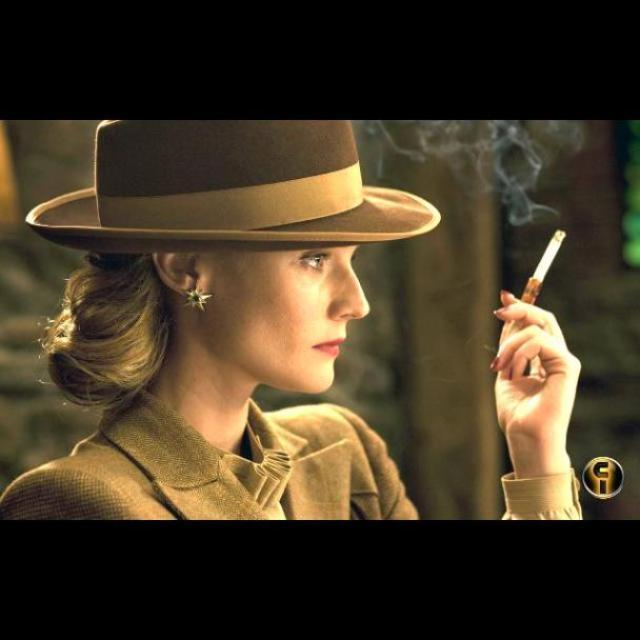rokok: (524, 228, 568, 304)
